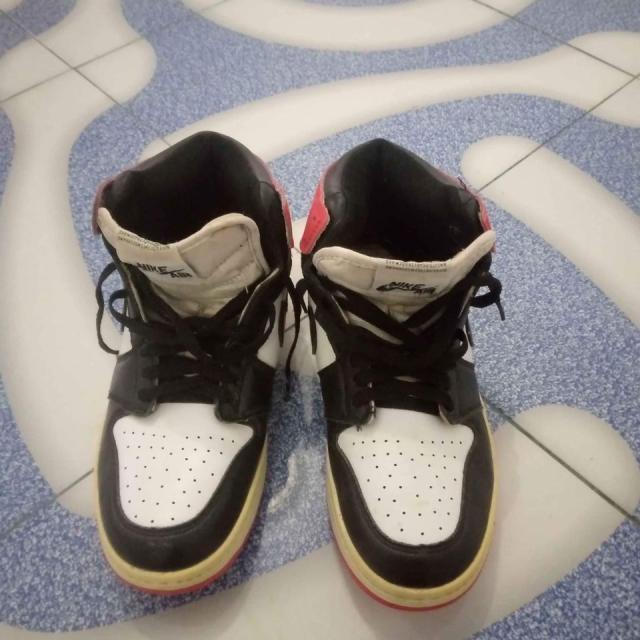nike fake jordan 1: (84, 132, 314, 596), (301, 135, 502, 610)
